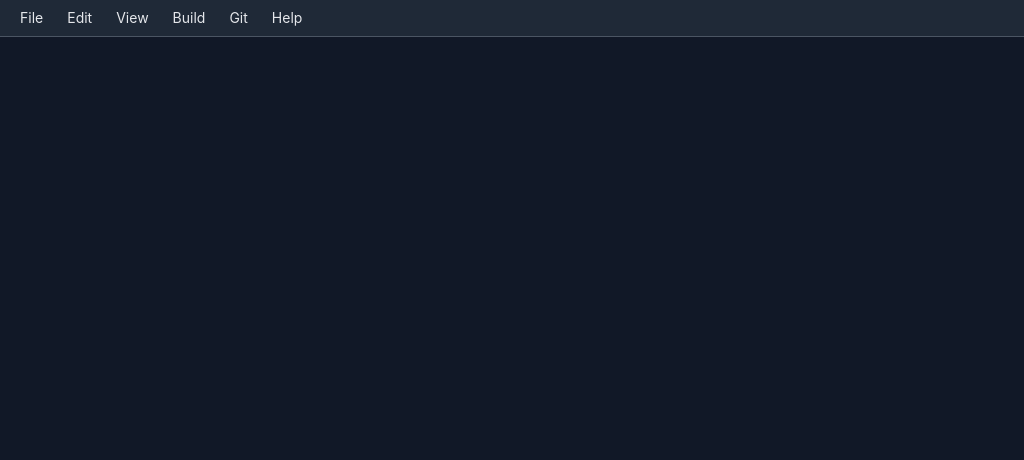
MenuBar › displays recent projects in submenu
This screenshot has width=1024, height=460.
Click the button with test id "menu-file" at [32, 18], box [8,4,55,32]
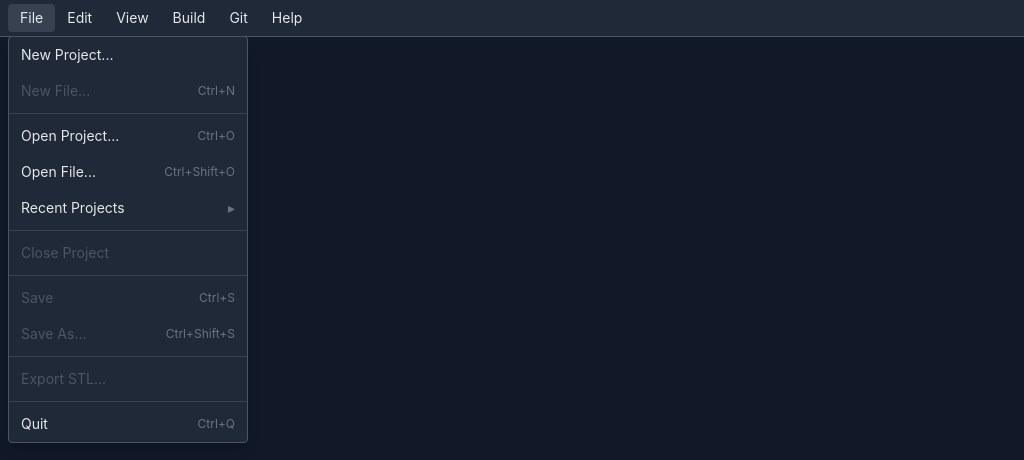
Hover over Recent Projects to open submenu
Hover over the text "Recent Projects" at [73, 208], box [21,199,235,216]
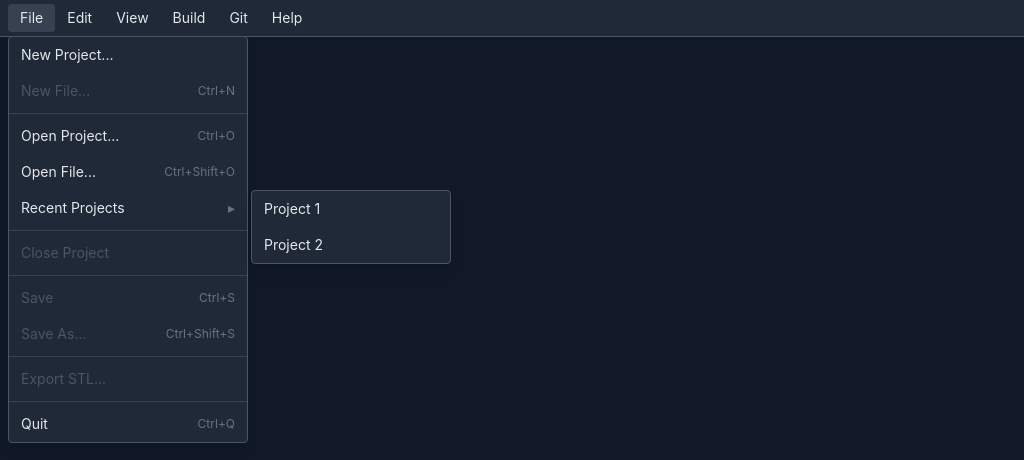
Now the text "Project 1" is shown, box [264,199,320,219]
Now the text "Project 2" is shown, box [264,235,323,255]
